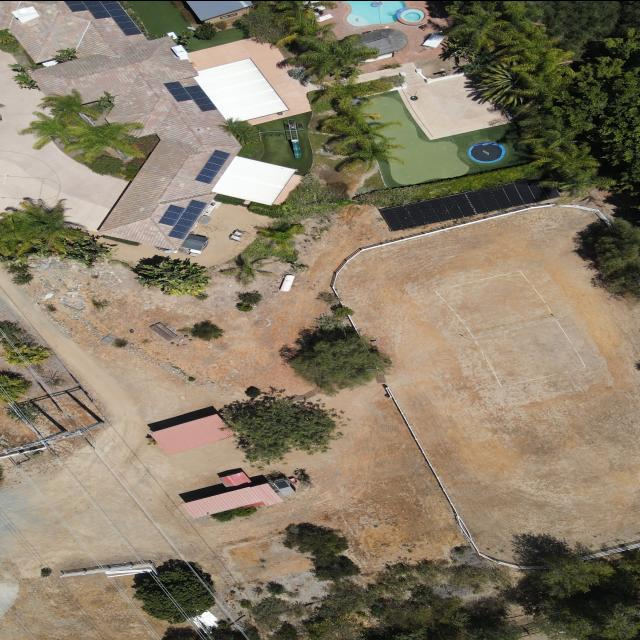solar-panels: (378, 172, 561, 232), (155, 186, 208, 243), (159, 71, 223, 116), (194, 144, 231, 188)
